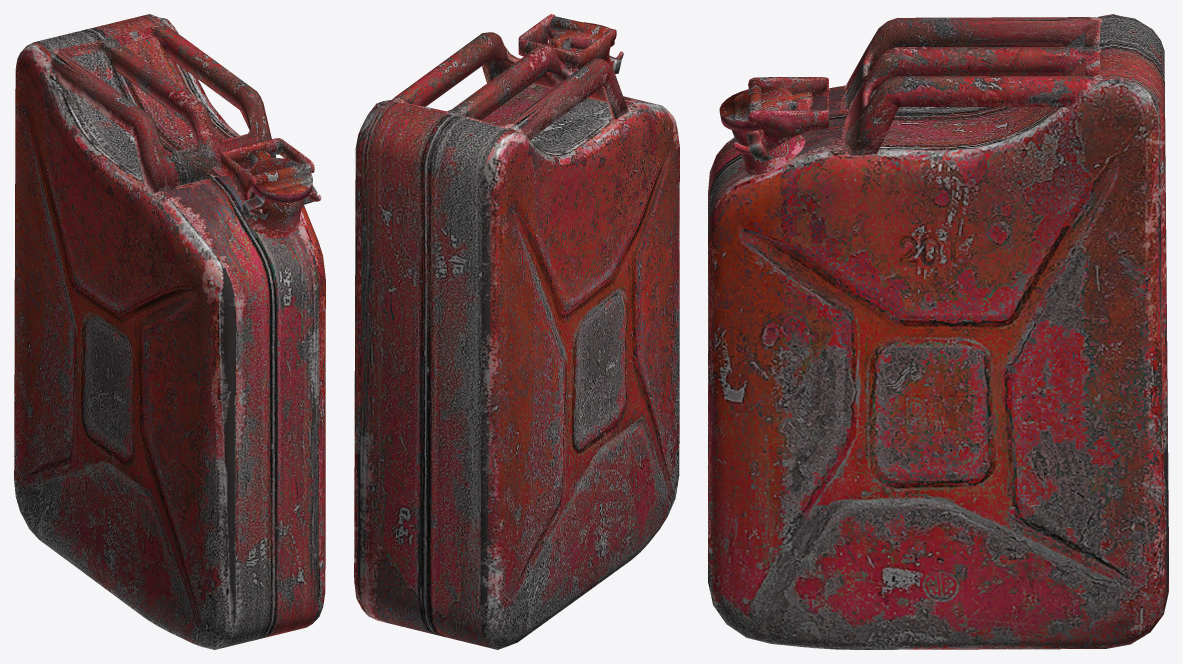
File: Gasoline_Canister.obj
3 renders of one model, left to right at view 1: azimuth 30°, elevation 25°; view 2: azimuth 150°, elevation 25°; view 3: azimuth 270°, elevation 25°, orthographic. The views are drawn at different scales.
Visible parts, largest first — view 1: GasolineCanister; view 2: GasolineCanister; view 3: GasolineCanister.
Part boxes in pixels (x1,y1,x2,y2): GasolineCanister: (14,14,325,649); GasolineCanister: (354,14,679,649); GasolineCanister: (708,14,1168,649).
Bounding box in the file's own units: 0.2576 × 0.8621 × 0.6321.
Materials: 1 (1 with a texture image).
